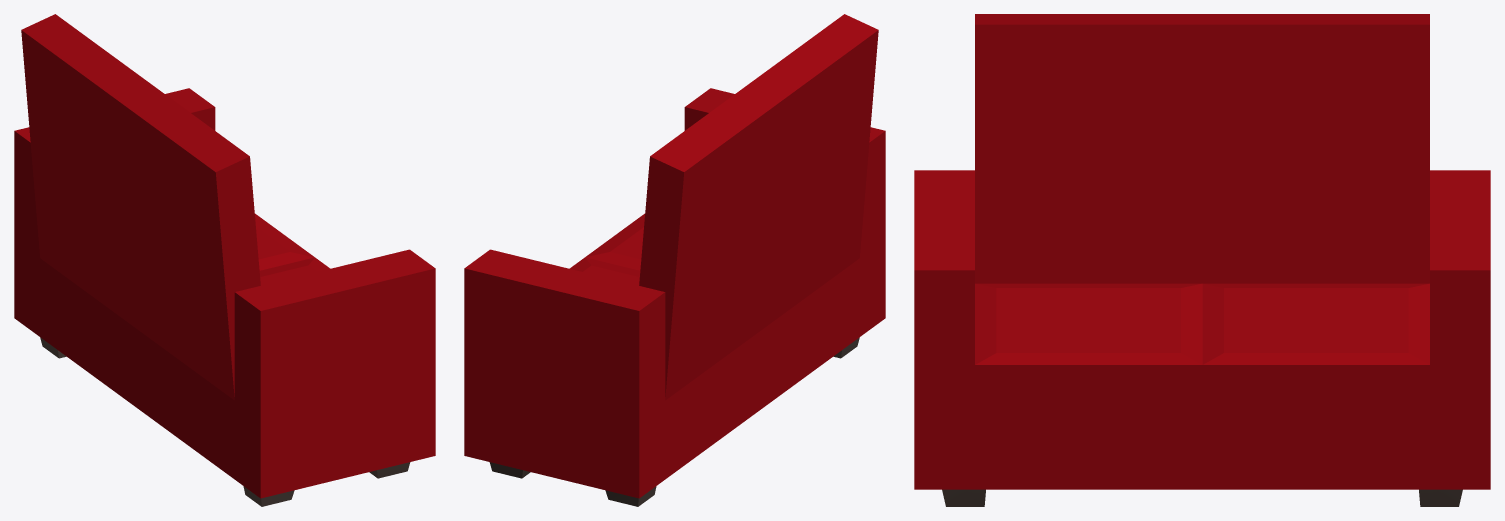
The model's file is Couch.fbx.
3 views of the same model, side by side, from view 1: azimuth 30°, elevation 25°; view 2: azimuth 150°, elevation 25°; view 3: azimuth 270°, elevation 25° (orthographic). The views are drawn at different scales.
Visible parts, largest first — view 1: Couch; view 2: Couch; view 3: Couch.
Boxes of the visible parts, <box> form: Couch: <box>14,14,435,506</box>; Couch: <box>464,14,885,506</box>; Couch: <box>914,14,1490,506</box>.
Size of the model in its own units: 84.29 by 38.85 by 64.46.
